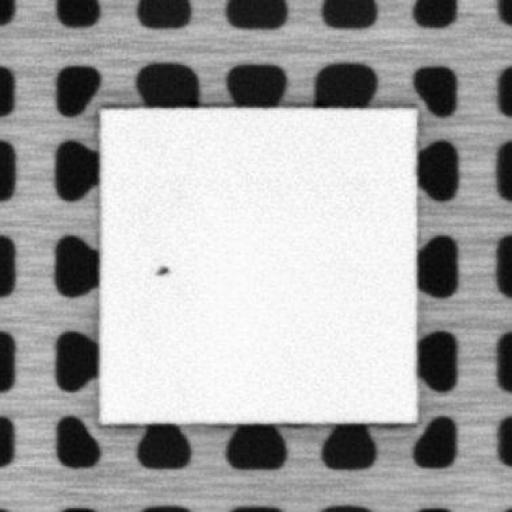DIE_INK: (152, 262, 168, 277)
